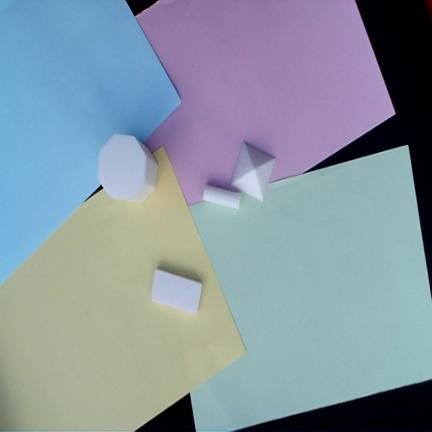Cilindro: (203, 185, 241, 210)
Paralelepipedo: (151, 268, 202, 316)
Piramide: (230, 140, 276, 203)
Prisma_hexagonal: (97, 134, 157, 202)
